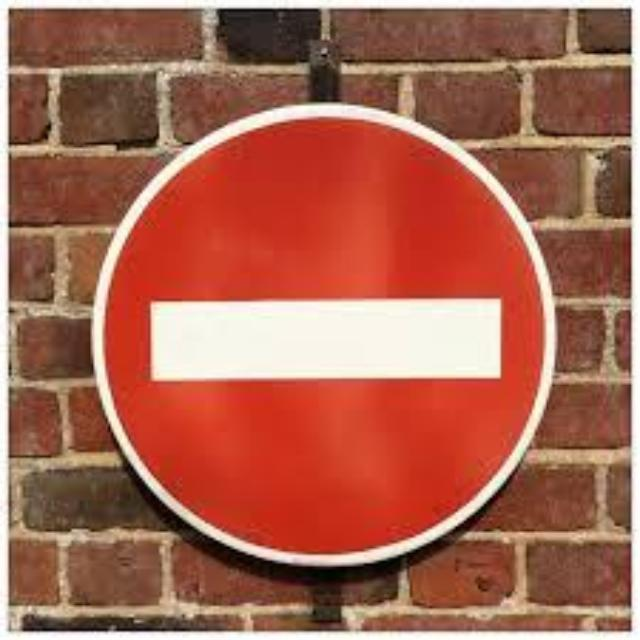B2: (85, 97, 560, 569)
